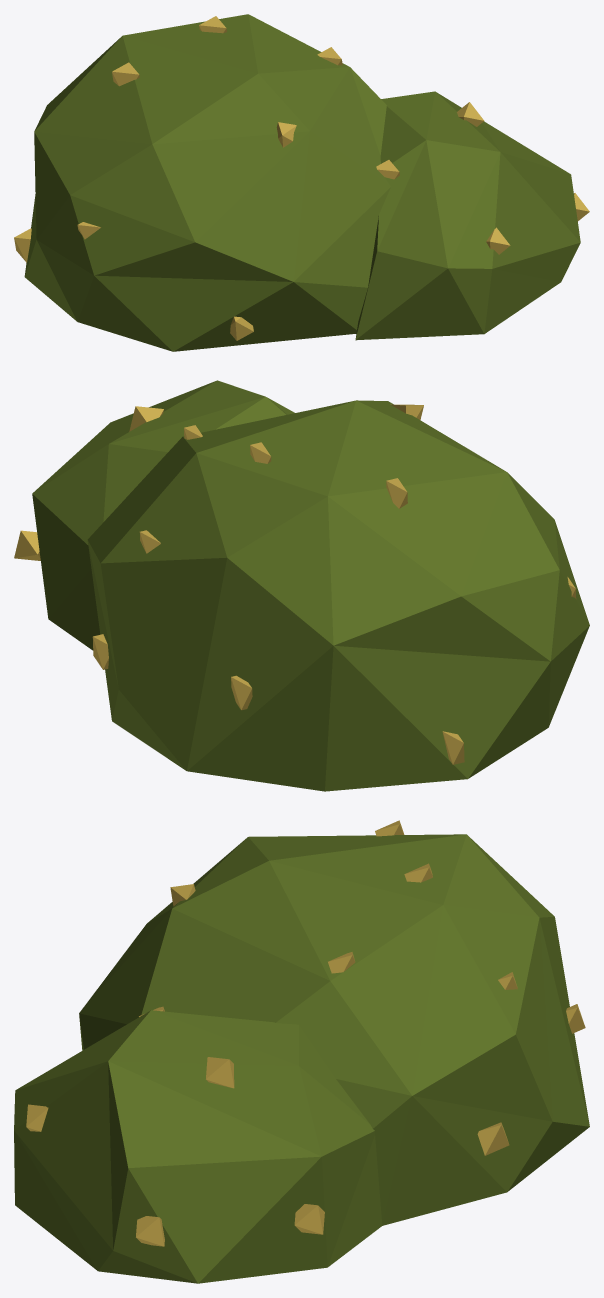
File: Berry Bush 4.glb
3 renders of one model, top to bottom at view 1: azimuth 30°, elevation 25°; view 2: azimuth 150°, elevation 25°; view 3: azimuth 270°, elevation 25°, orthographic. The views are drawn at different scales.
Visible parts, largest first — view 1: Berry Bush 4; view 2: Berry Bush 4; view 3: Berry Bush 4.
Part boxes in pixels (<box>): Berry Bush 4: <box>14,14,589,351</box>; Berry Bush 4: <box>14,380,589,791</box>; Berry Bush 4: <box>14,820,589,1283</box>.
Size of the model in its own units: 0.7431 by 0.3348 by 0.6322.
